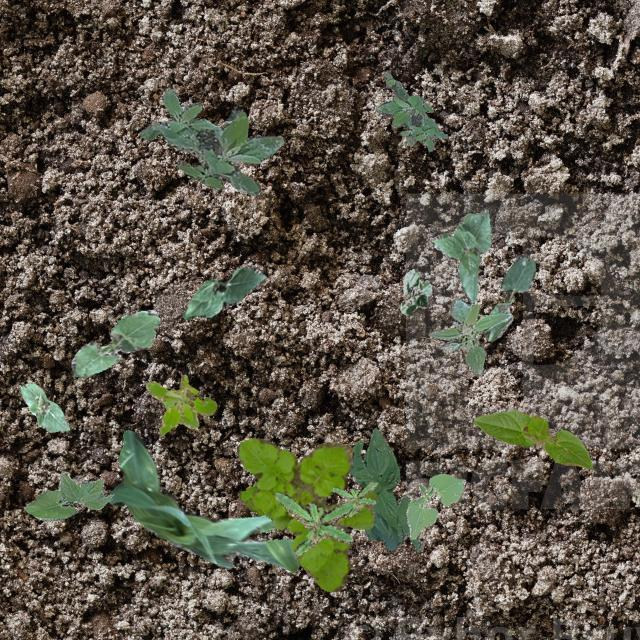crop: (109, 428, 298, 572), (348, 426, 422, 552), (473, 408, 591, 468), (70, 308, 158, 376), (430, 208, 490, 302), (23, 470, 114, 520), (482, 253, 534, 339), (182, 266, 266, 318), (406, 472, 464, 538), (18, 382, 68, 432), (398, 268, 431, 314)
weed: (235, 438, 378, 590), (138, 86, 282, 195), (428, 298, 512, 376), (274, 490, 362, 556), (374, 70, 446, 150), (146, 374, 216, 434), (330, 480, 376, 516), (238, 484, 264, 514)
